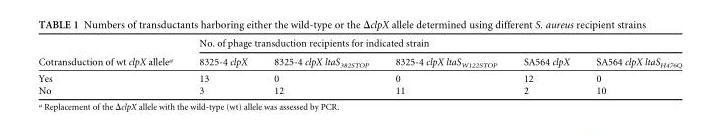table: (37, 37, 681, 95)
table column: (37, 37, 185, 95), (381, 37, 509, 95), (260, 37, 381, 95), (582, 37, 681, 95), (185, 37, 260, 95), (509, 37, 582, 95)
table column header: (37, 37, 681, 70)
table row: (37, 52, 681, 70), (37, 37, 681, 52), (37, 70, 681, 84), (37, 84, 681, 95)
table spanning cell: (185, 37, 681, 52), (37, 37, 185, 70)
